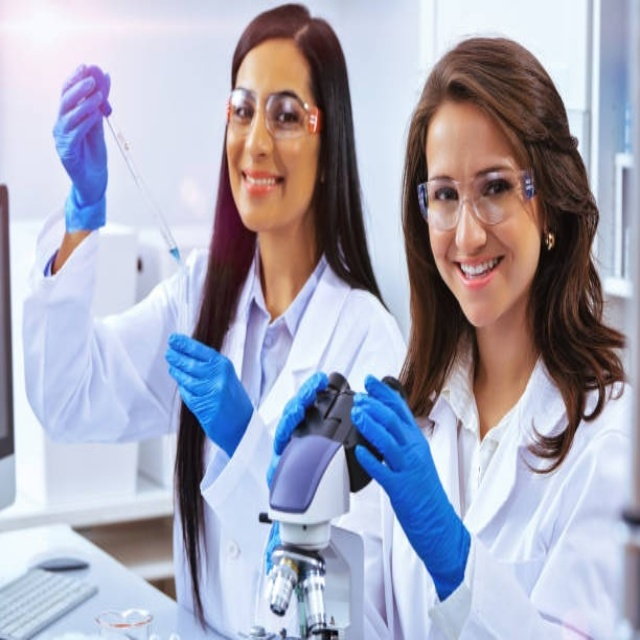Gafas: (416, 162, 538, 235), (228, 89, 321, 144)
Guantes: (353, 362, 472, 598), (166, 329, 250, 456), (53, 60, 114, 232), (264, 369, 332, 489)
Sin_mascara: (448, 245, 511, 307), (234, 155, 291, 218)
